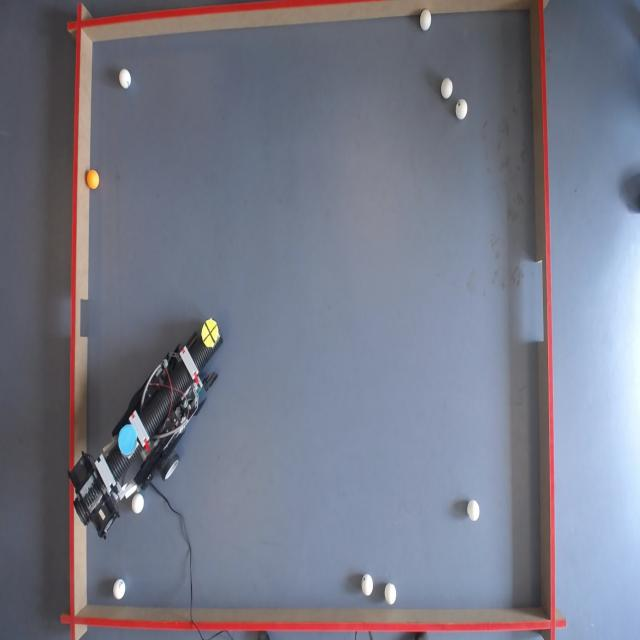orange: (86, 170, 100, 188)
robot: (71, 314, 230, 532)
robot-front: (202, 317, 220, 349)
robot-rear: (116, 421, 138, 456)
white: (360, 573, 374, 596), (384, 584, 398, 607), (112, 579, 126, 602), (441, 78, 454, 100), (456, 96, 469, 118), (421, 9, 434, 31), (467, 499, 480, 521), (118, 68, 131, 89), (131, 494, 145, 513)
